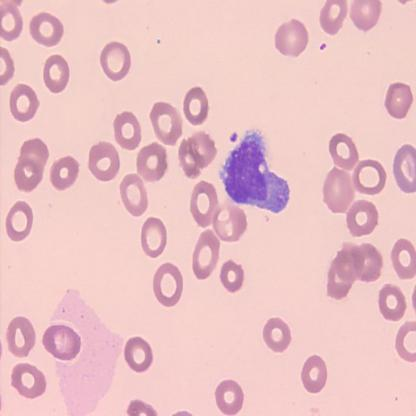Monocyte: (216, 124, 292, 216)
